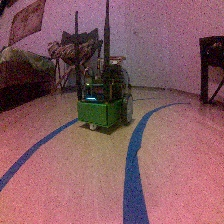rob: (75, 62, 134, 131)
